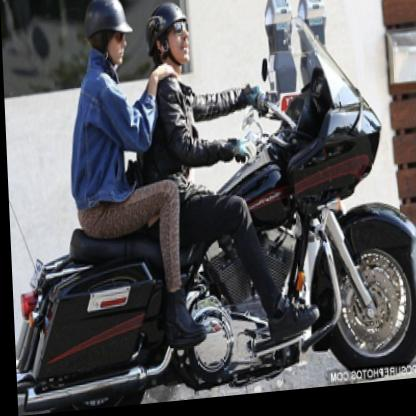With Helmet: (144, 0, 191, 75), (82, 0, 132, 70)
